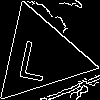L: (15, 31, 54, 82)
